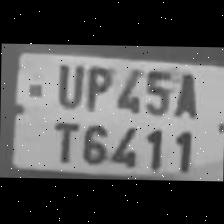1: (166, 124, 199, 172), (137, 122, 166, 169)
4: (110, 60, 144, 114), (107, 120, 140, 168)
5: (140, 64, 173, 118)
6: (76, 119, 109, 166)
A: (169, 66, 200, 120)
P: (79, 59, 112, 112)
T: (44, 116, 78, 164)
U: (51, 58, 84, 108)
